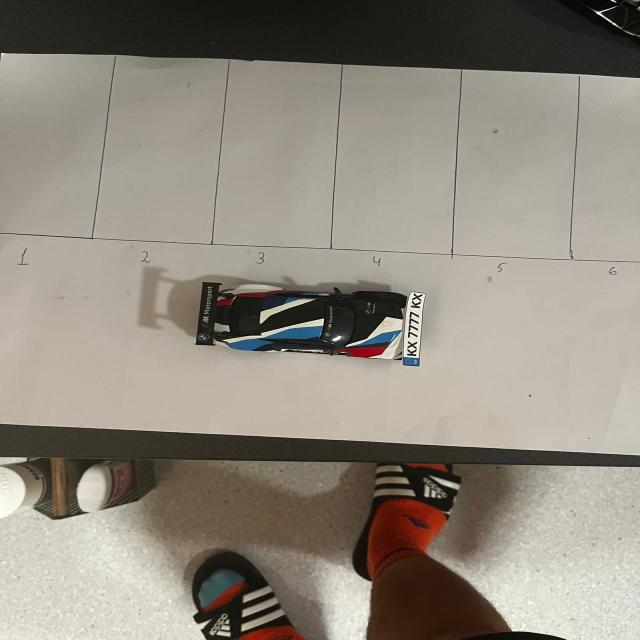cars: (172, 271, 455, 381)
